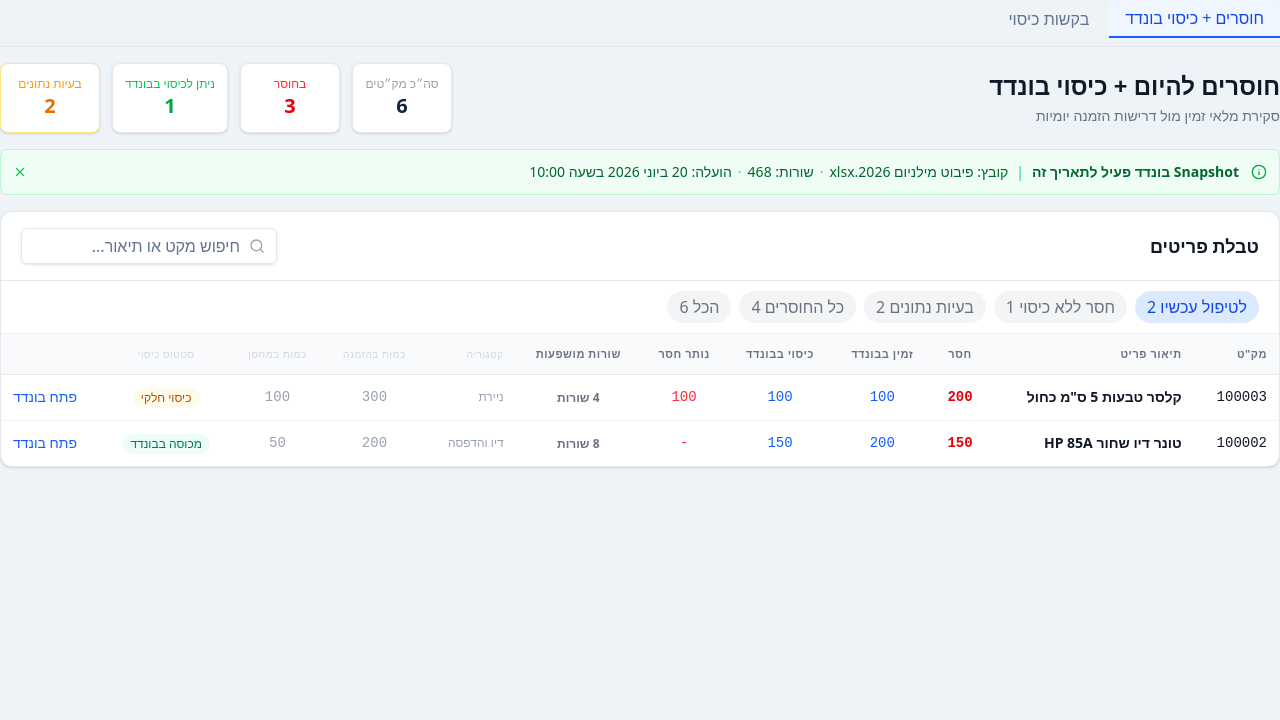
Test case: ProductControlTab › closes drawer when clicking close button
The image size is (1280, 720).
Click the text "100002" at (1236,443), box [1194, 420, 1279, 466]
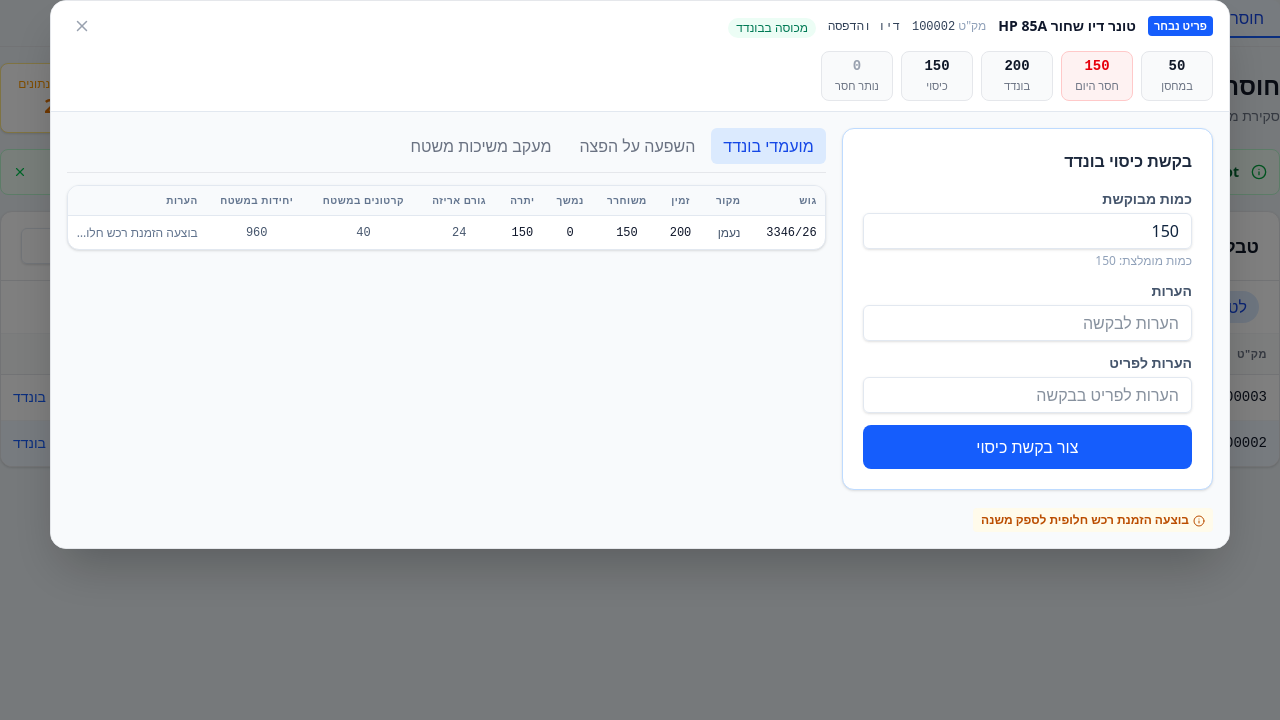
Result: the text "פריט נבחר" is shown at [1148, 16, 1213, 36]
Click the button with test id "detail-panel-close" at (82,26), box [67, 11, 97, 41]
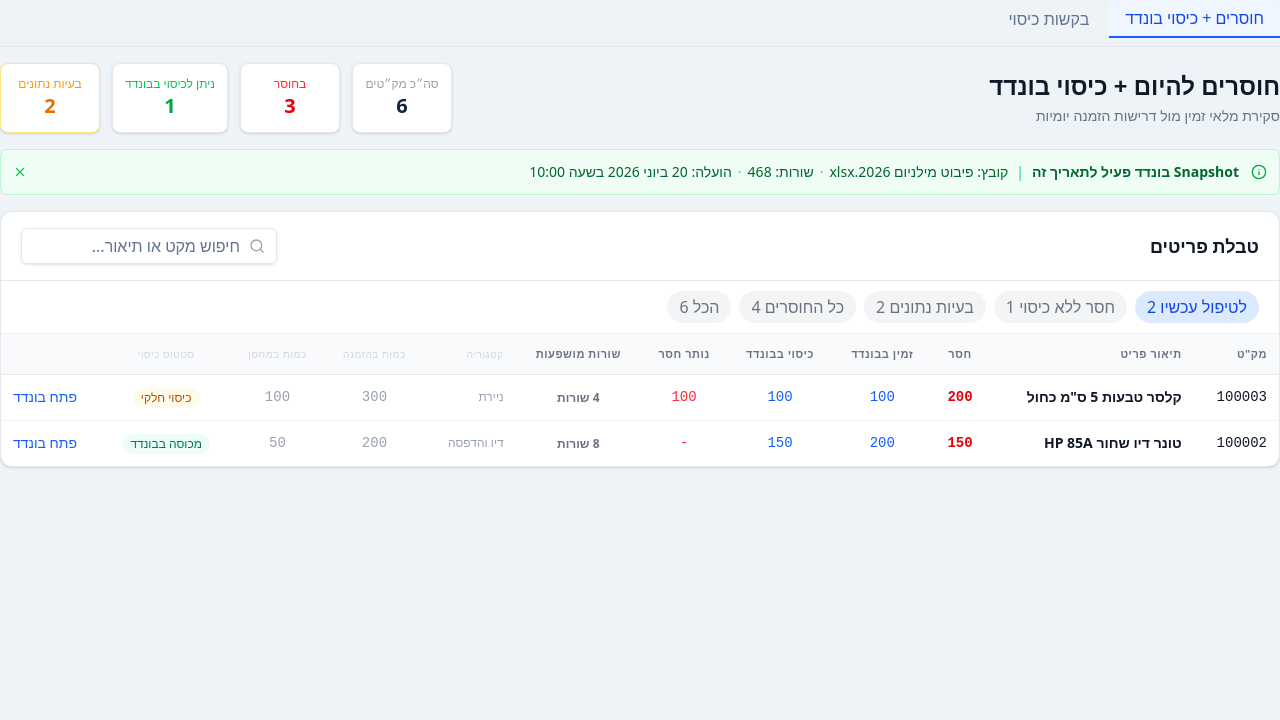
Result: the text "פריט נבחר" is gone
